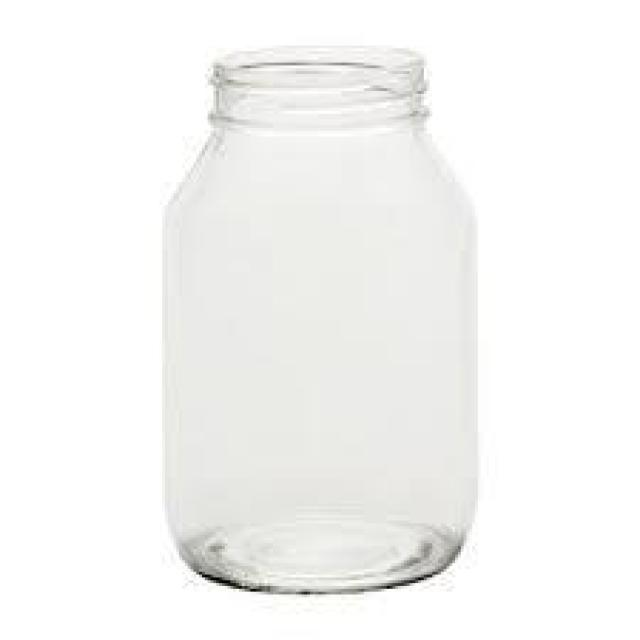Glass: (160, 42, 481, 596)
